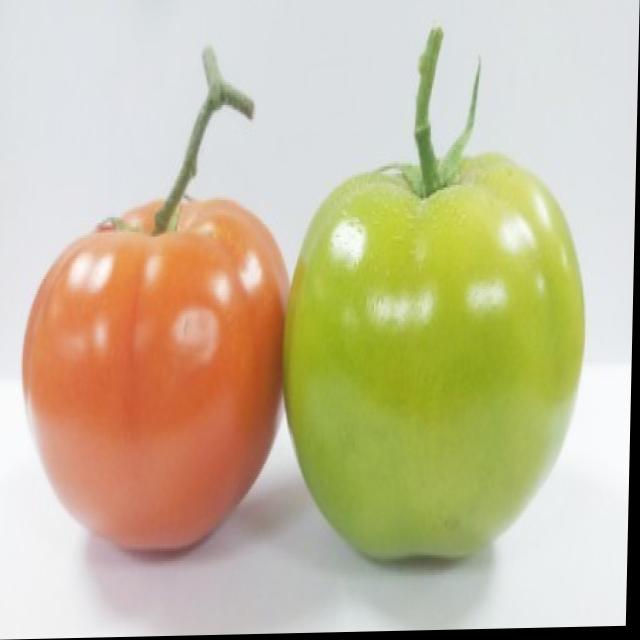sari: (3, 114, 294, 571)
yesil: (285, 138, 596, 586)
